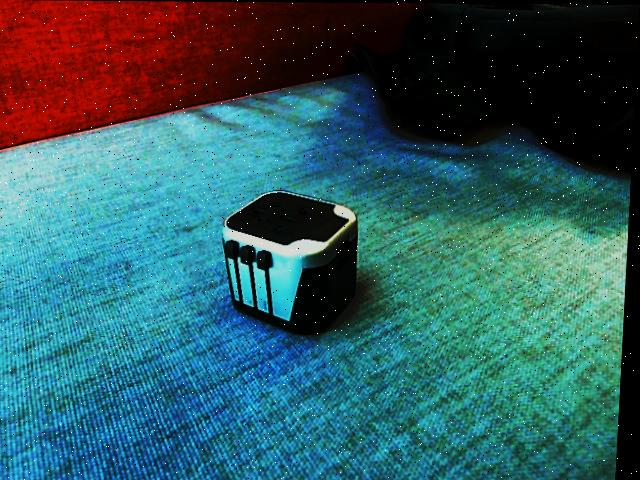adapter: (219, 189, 364, 334)
